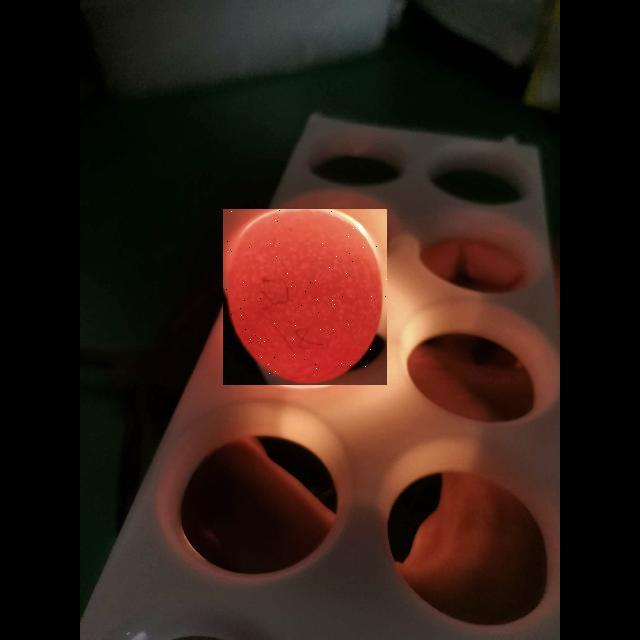Infertile: (223, 209, 387, 385)
